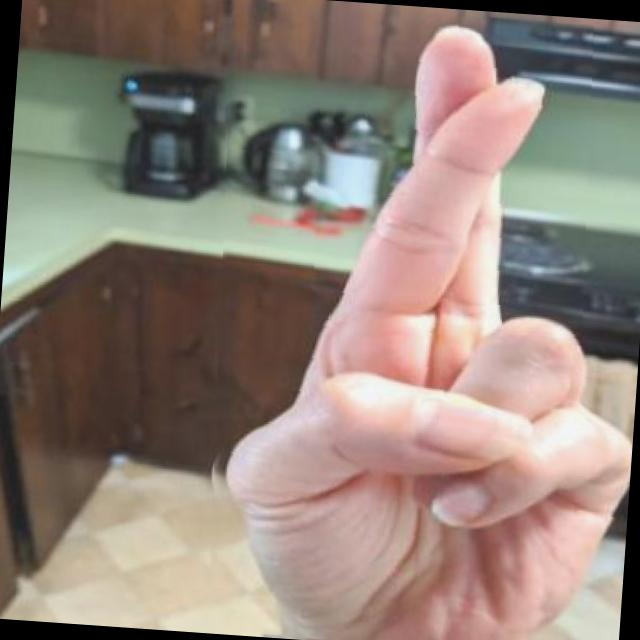R: (188, 0, 640, 640)
